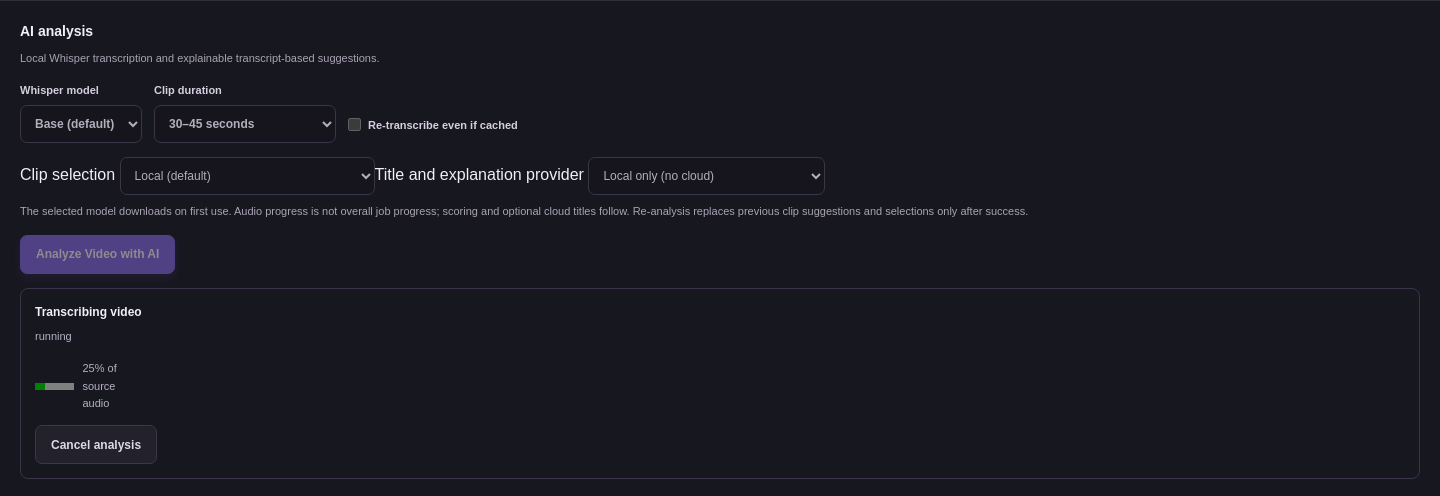
Test: AI analysis › cancels a running analysis
Click the button "Cancel analysis" at point(96, 445), box x1=35 y1=425 x2=157 y2=464
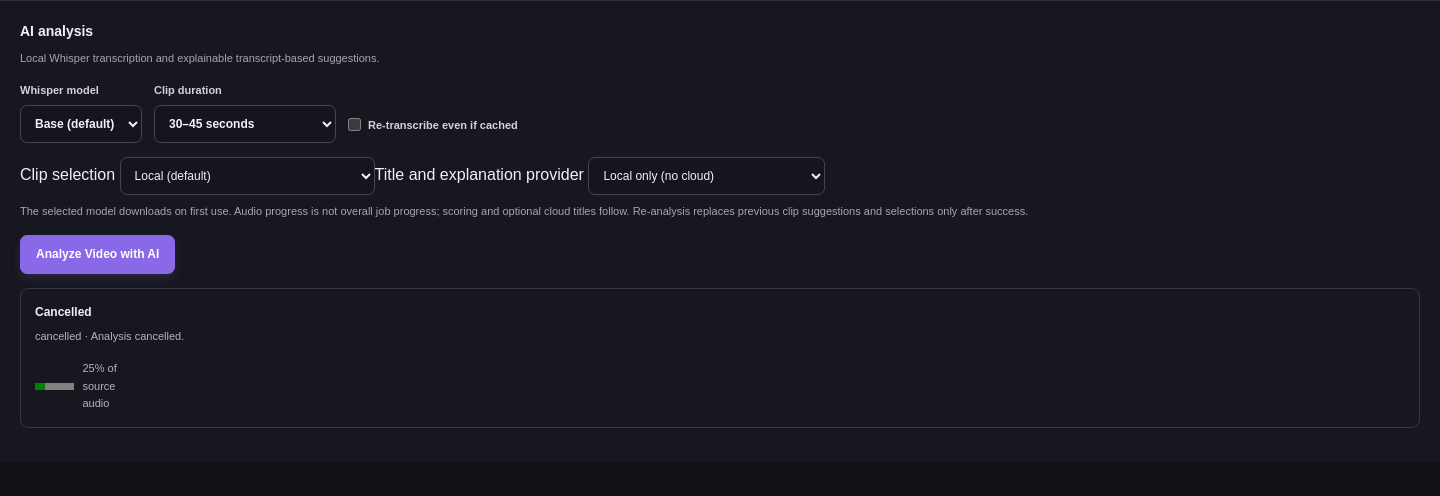
Expected: the text "Cancelled" is shown, x1=35 y1=303 x2=92 y2=321
